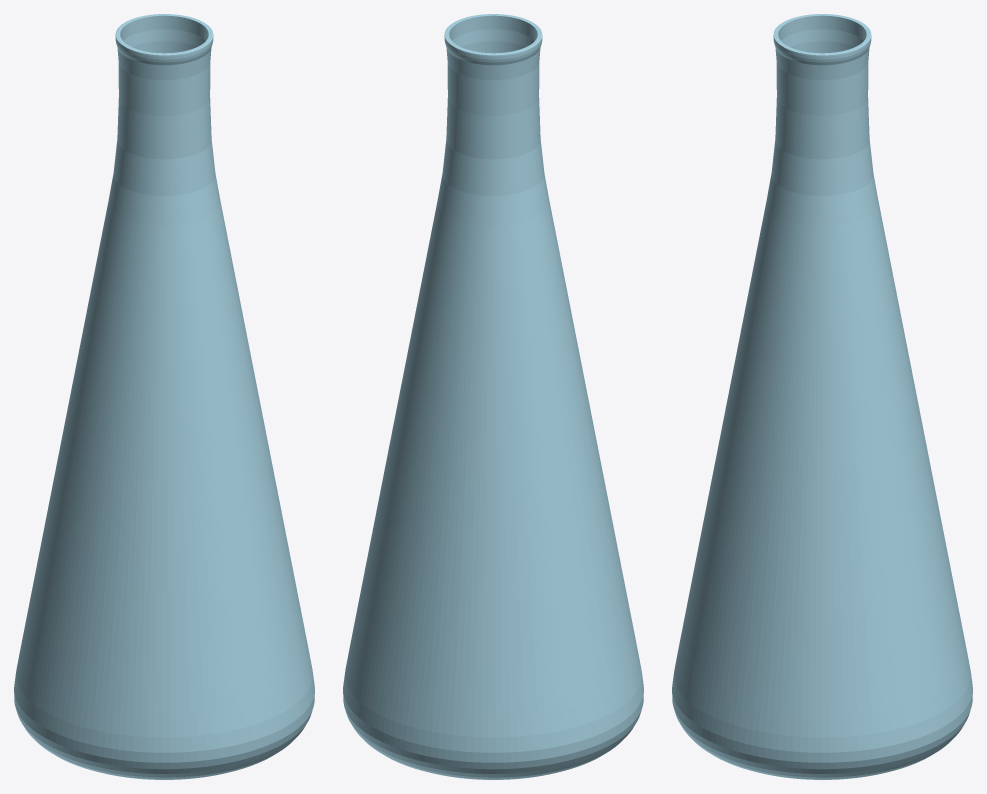
File: Koble 3.fbx
The picture shows the model from 3 angles, left to right: view 1: azimuth 30°, elevation 25°; view 2: azimuth 150°, elevation 25°; view 3: azimuth 270°, elevation 25°; orthographic projection.
Parts seen in each view (by area): view 1: Kolbe 3; view 2: Kolbe 3; view 3: Kolbe 3.
Part boxes in pixels (<box>): Kolbe 3: <box>14,14,314,779</box>; Kolbe 3: <box>343,14,643,779</box>; Kolbe 3: <box>672,14,972,779</box>.
Bounding box in the file's own units: 101 × 259 × 101.
